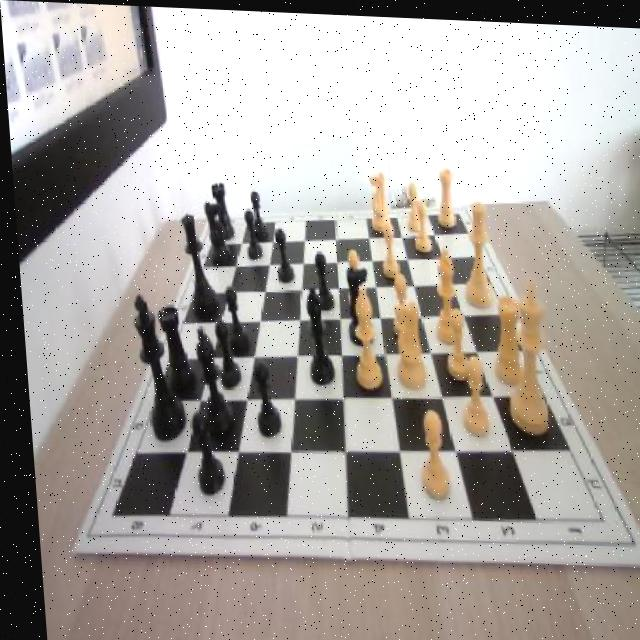bishop: (189, 321, 230, 440), (300, 284, 330, 382)
black-bishop: (128, 295, 181, 441)
black-king: (340, 260, 369, 342), (203, 197, 228, 259)
black-knight: (185, 409, 219, 494), (245, 357, 275, 435), (210, 318, 238, 388), (219, 282, 245, 351), (308, 247, 330, 309), (268, 226, 290, 284), (246, 188, 264, 239), (242, 207, 259, 260)
black-pawn: (177, 211, 215, 317)
black-queen: (154, 302, 190, 391), (208, 181, 230, 239)
black-rook: (346, 287, 379, 388), (427, 243, 459, 341)
white-bishop: (495, 269, 547, 430)
white-king: (383, 287, 428, 389), (363, 165, 390, 230)
white-knight: (409, 406, 447, 497), (451, 349, 487, 434), (437, 303, 469, 380), (385, 270, 413, 339), (340, 248, 363, 308), (376, 219, 398, 276), (400, 178, 422, 229), (408, 197, 429, 248)
white-pawn: (453, 195, 492, 303)
white-queen: (485, 285, 520, 380), (432, 164, 454, 227)
